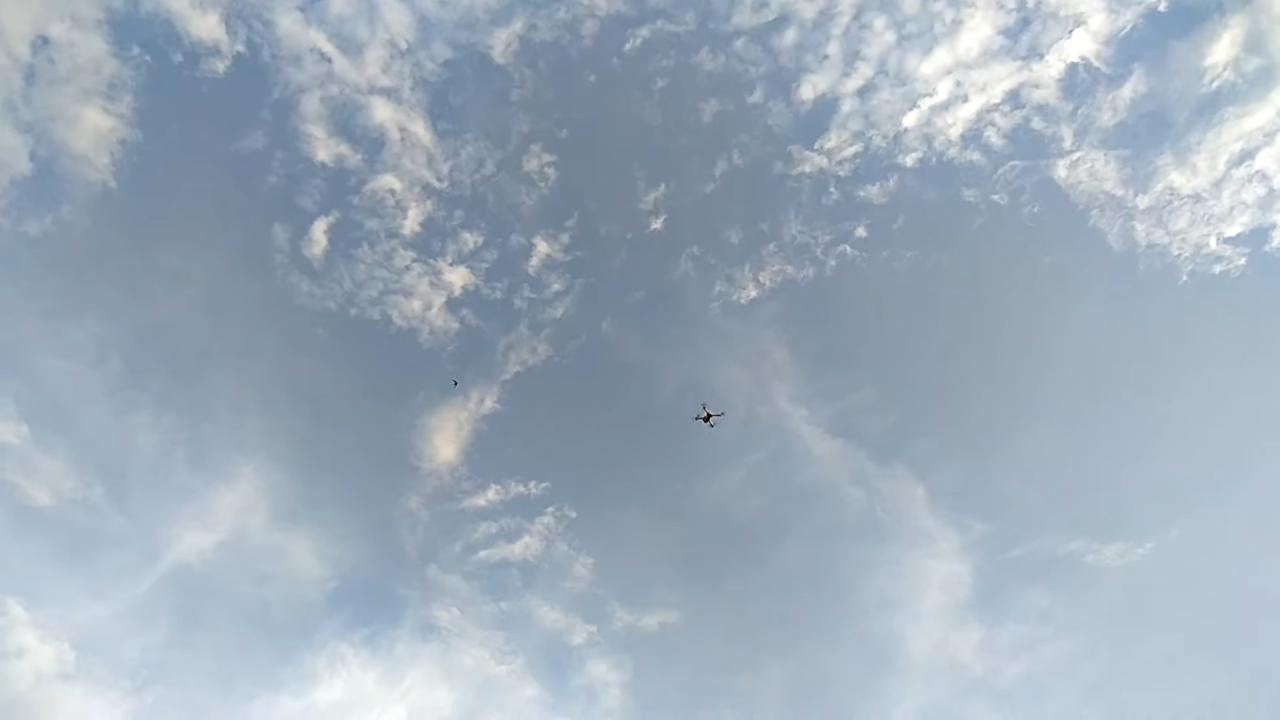Drone: (678, 394, 736, 441)
